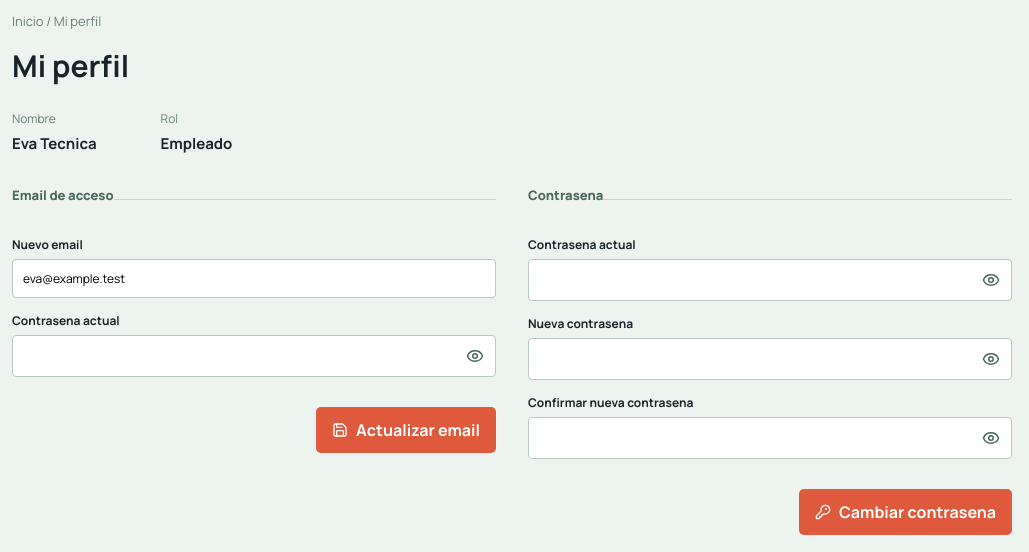
Scenario: perfil propio › permite mostrar y ocultar la contrasena sin perder su valor
Type "new-secure-password" into the password field named "Nueva contrasena" at (750, 359), box [529,341,971,378]
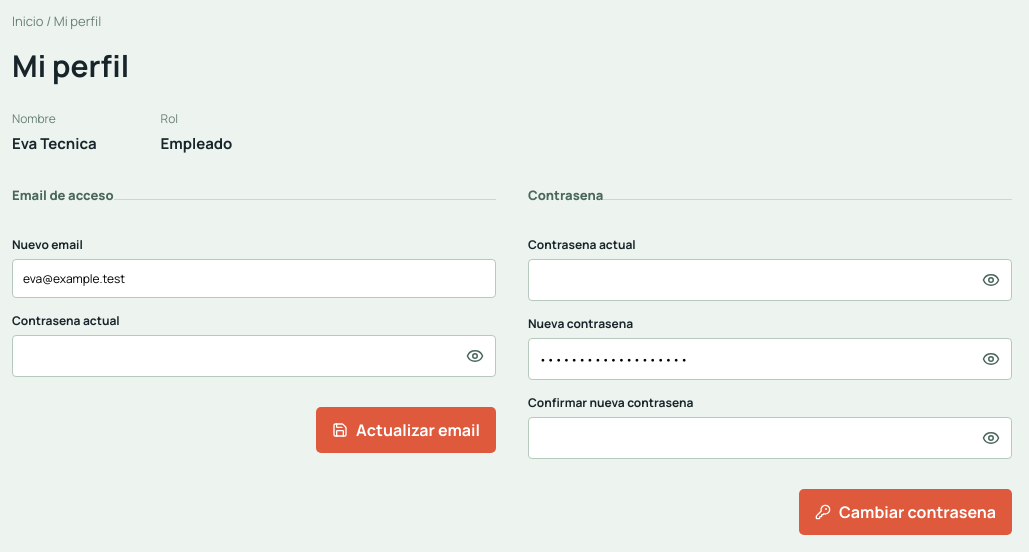
Click the button named "Mostrar nueva contrasena" at (991, 359), box [971,339,1011,379]
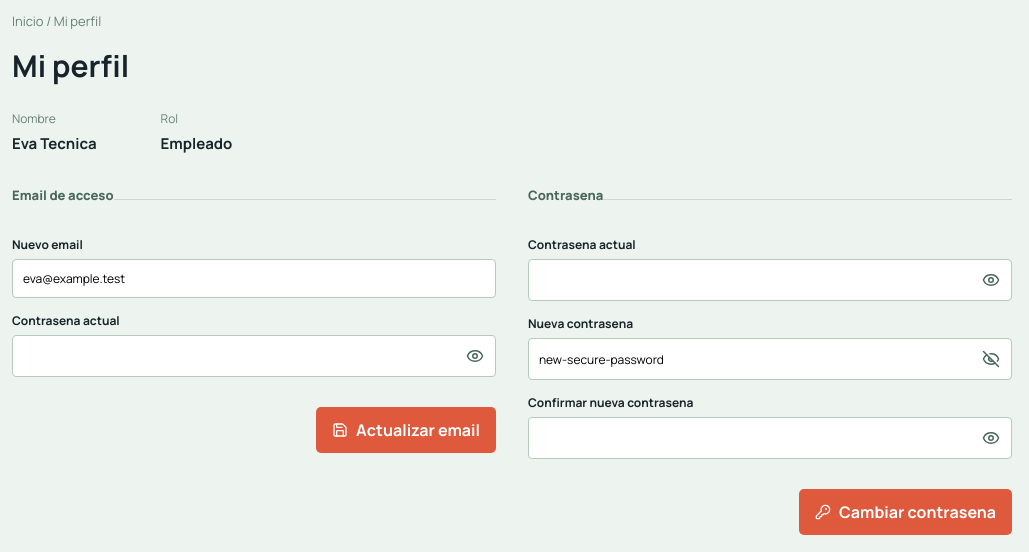
Check: the field named "Nueva contrasena" shows its text, box [529,341,971,378]
Click the button named "Ocultar nueva contrasena" at (991, 359), box [971,339,1011,379]
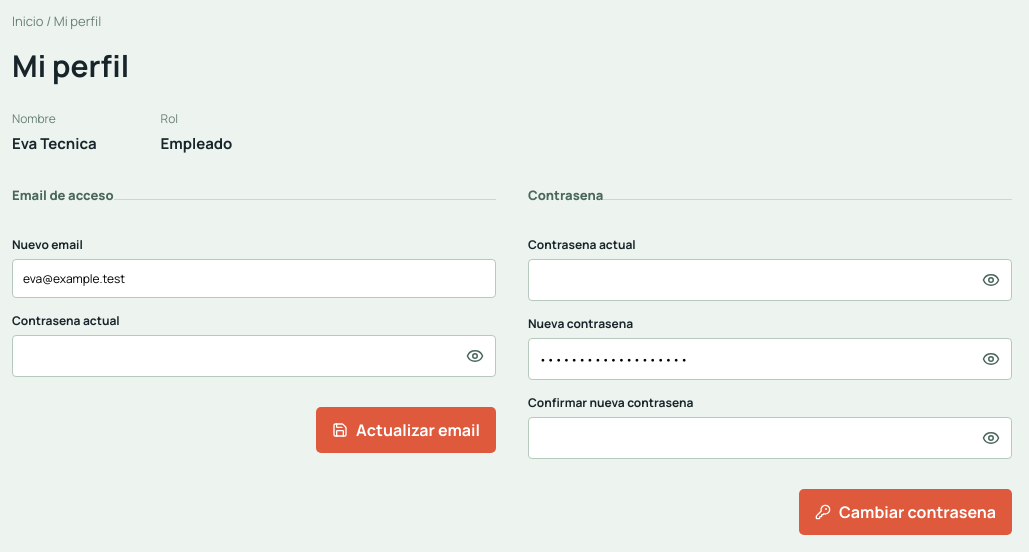
Check: the password field named "Nueva contrasena" hides its text, box [529,341,971,378]
